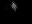person: (11, 2, 18, 12)
